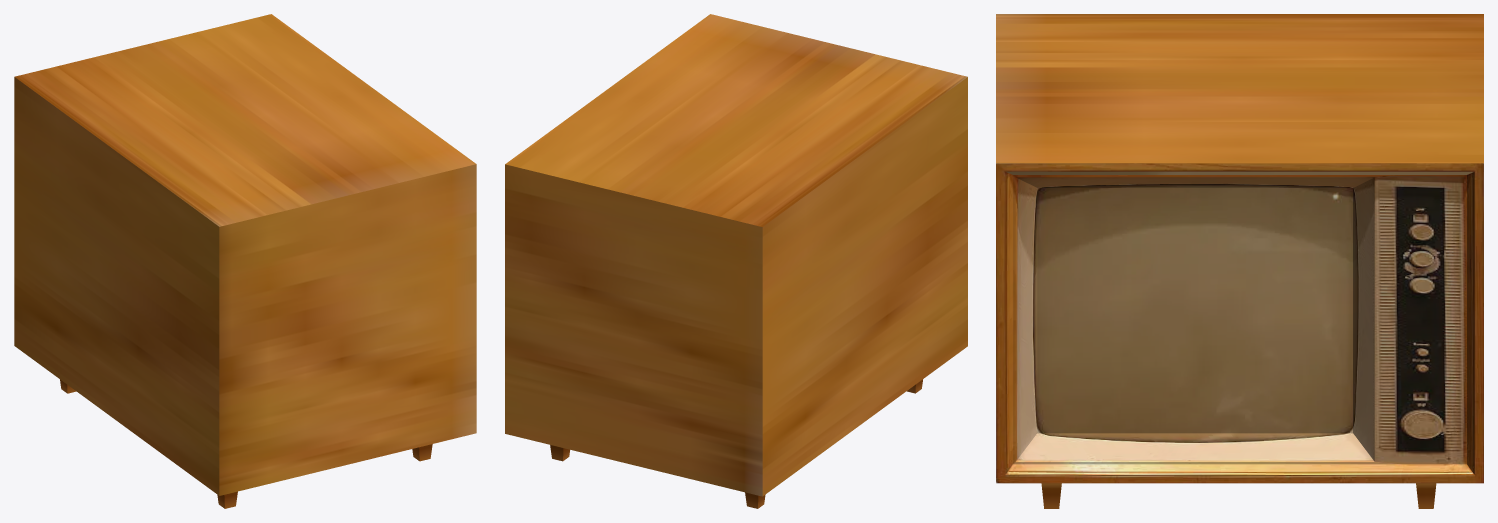
File: old tv.glb
3 views of the same model, side by side, from view 1: azimuth 30°, elevation 25°; view 2: azimuth 150°, elevation 25°; view 3: azimuth 270°, elevation 25° (orthographic). The views are drawn at different scales.
Visible parts, largest first — view 1: Cube; view 2: Cube; view 3: Cube.
Part boxes in pixels (bbox=[...]): Cube: bbox=[14, 14, 476, 495]; Cube: bbox=[505, 14, 967, 496]; Cube: bbox=[996, 14, 1483, 483].
Size of what is drawn, in the model's own units: 1.32 by 1.49 by 1.82.
Materials: 4 (4 with a texture image).
